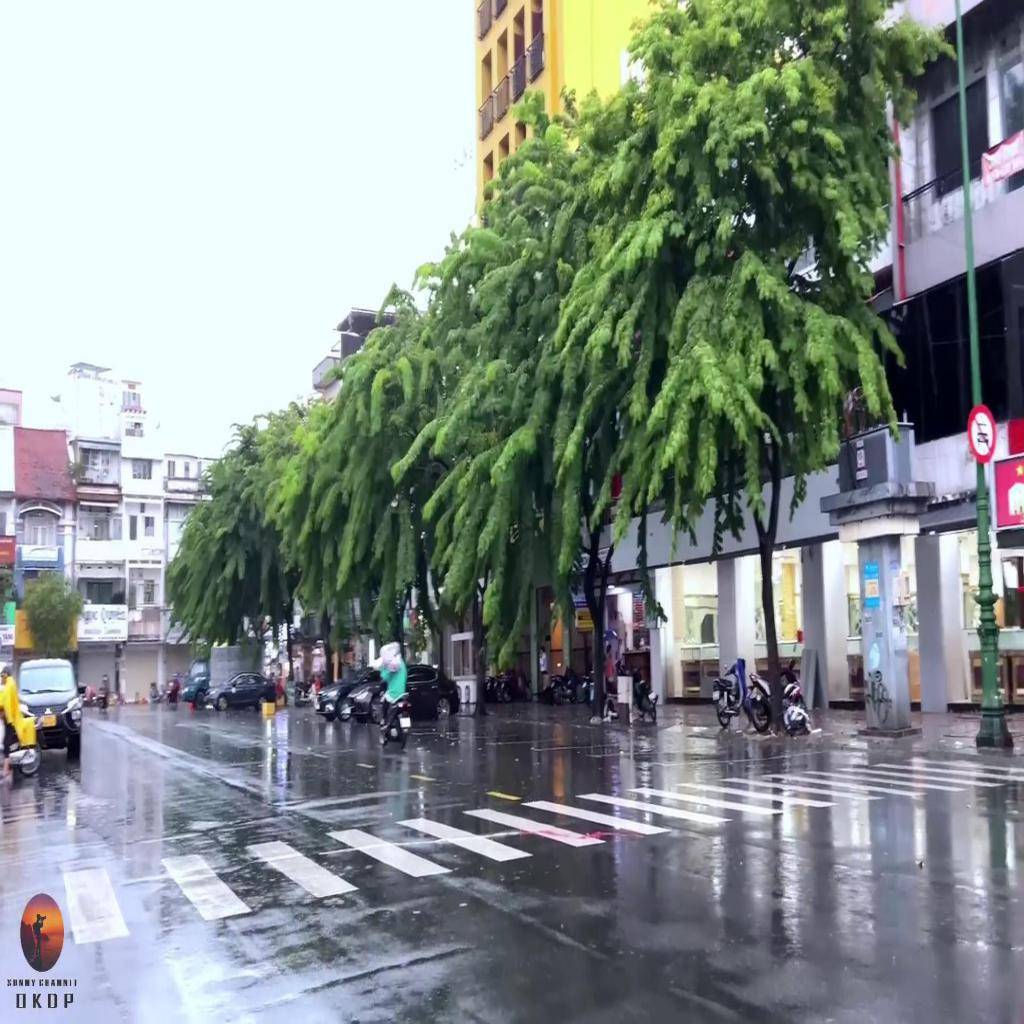cam_o_to: (966, 402, 998, 467)
